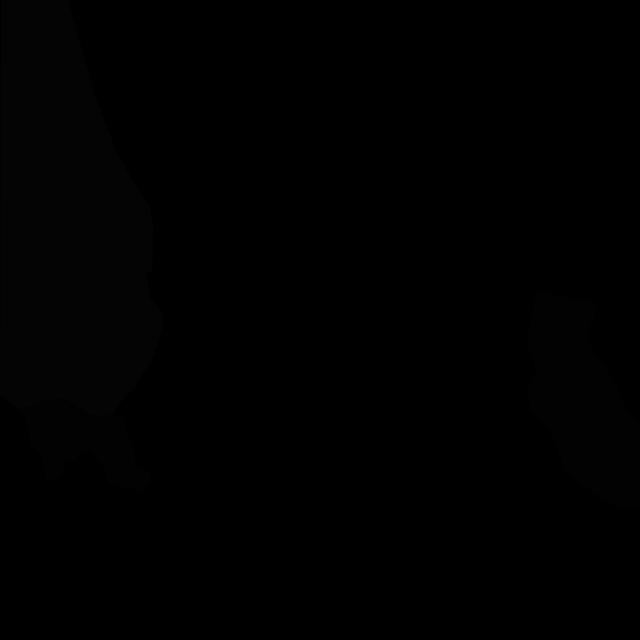cardboard: (526, 291, 640, 511), (20, 400, 152, 492)
